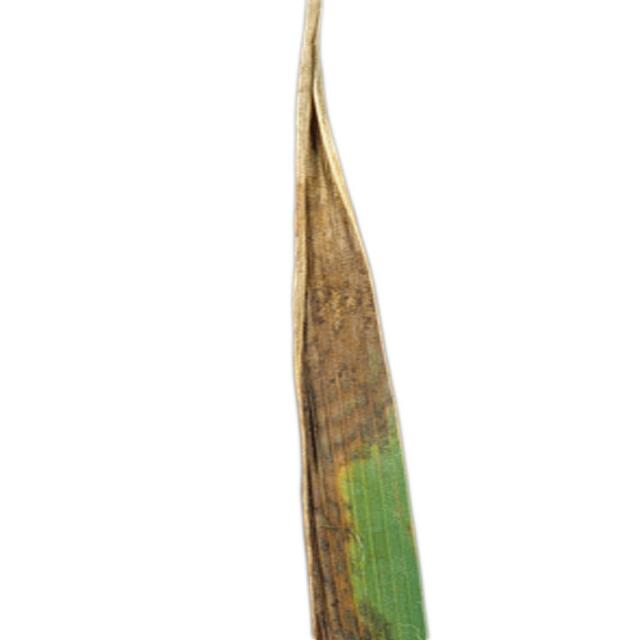Leaf scald: (176, 0, 468, 640)
